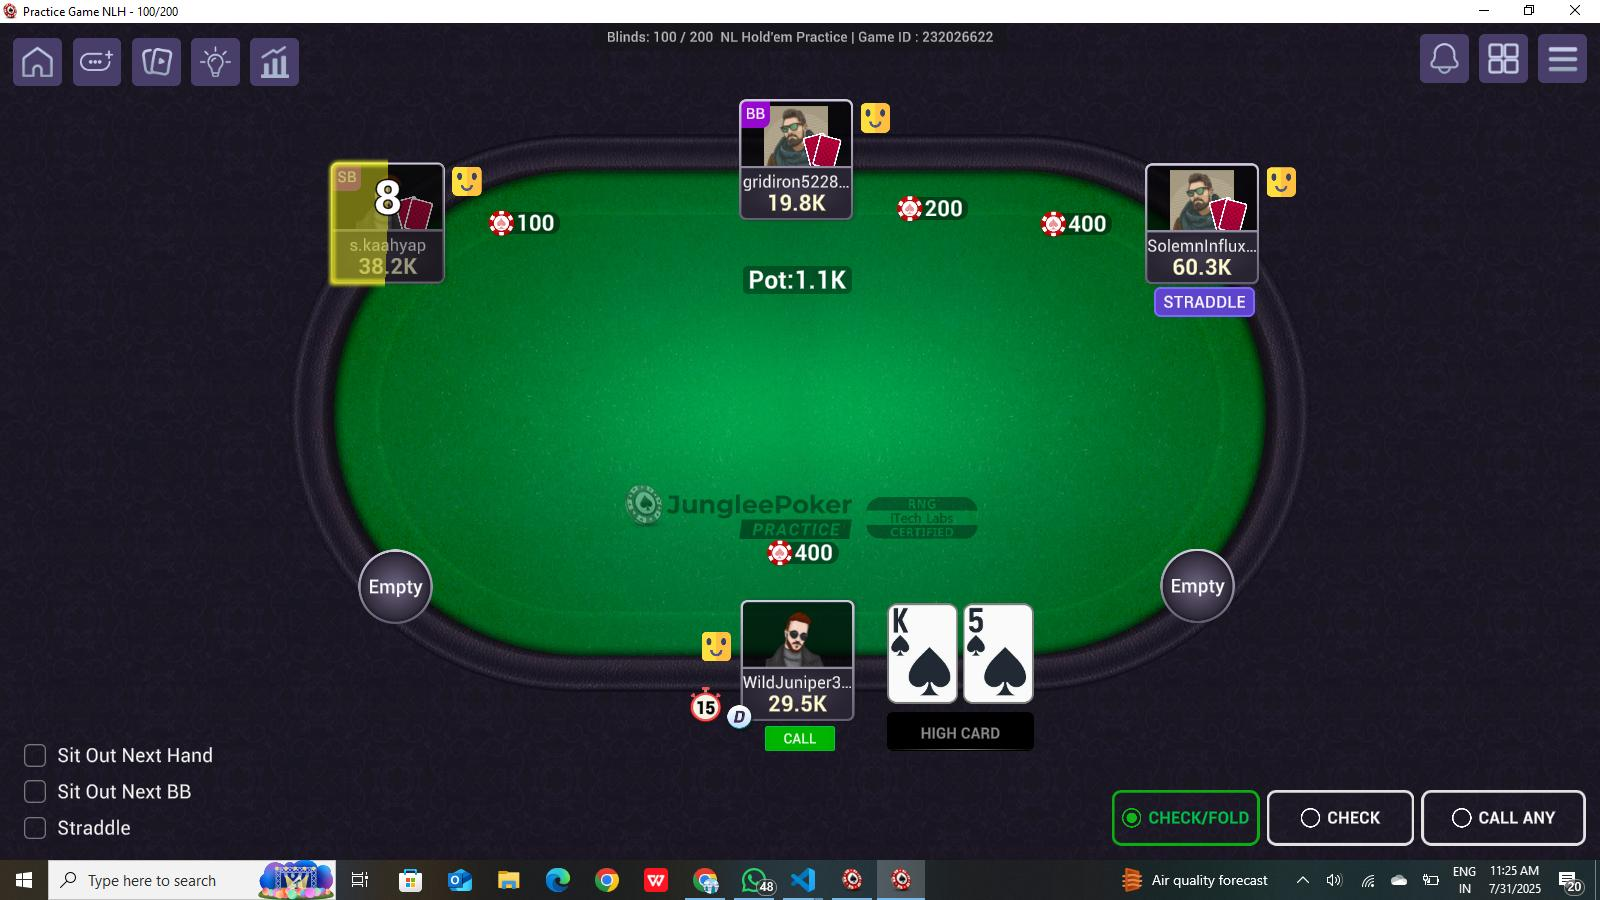card1_rank: (888, 604, 952, 644)
card1_suite_spades: (900, 645, 955, 707)
card2_rank: (964, 602, 1026, 640)
card2_suite_spades: (976, 638, 1033, 702)
game_id: (848, 24, 1001, 51)
my_bet: (766, 538, 843, 568)
my_stack: (748, 685, 851, 719)
position_BB: (740, 102, 773, 130)
position_SB: (327, 163, 365, 193)
total_pot: (744, 260, 852, 295)
villian2_bet: (484, 209, 557, 240)
villian2_name: (340, 224, 448, 257)
villian2_stack: (340, 253, 442, 278)
villian3_bet: (895, 192, 968, 221)
villian3_name: (740, 167, 854, 200)
villian3_stack: (744, 192, 852, 214)
villian4_bet: (1040, 204, 1109, 241)
villian4_name: (1140, 230, 1256, 263)
villian4_stack: (1148, 251, 1260, 281)
